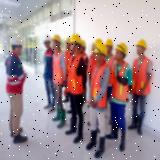Helmet: (93, 42, 108, 56), (115, 41, 128, 57), (135, 38, 147, 51), (70, 34, 82, 46), (10, 36, 24, 46), (105, 38, 115, 49), (51, 34, 62, 44), (43, 34, 51, 42)
Vest: (90, 64, 108, 109), (132, 58, 152, 96), (112, 61, 129, 101), (68, 54, 83, 94), (52, 51, 64, 85), (104, 54, 114, 85), (64, 49, 71, 75)
